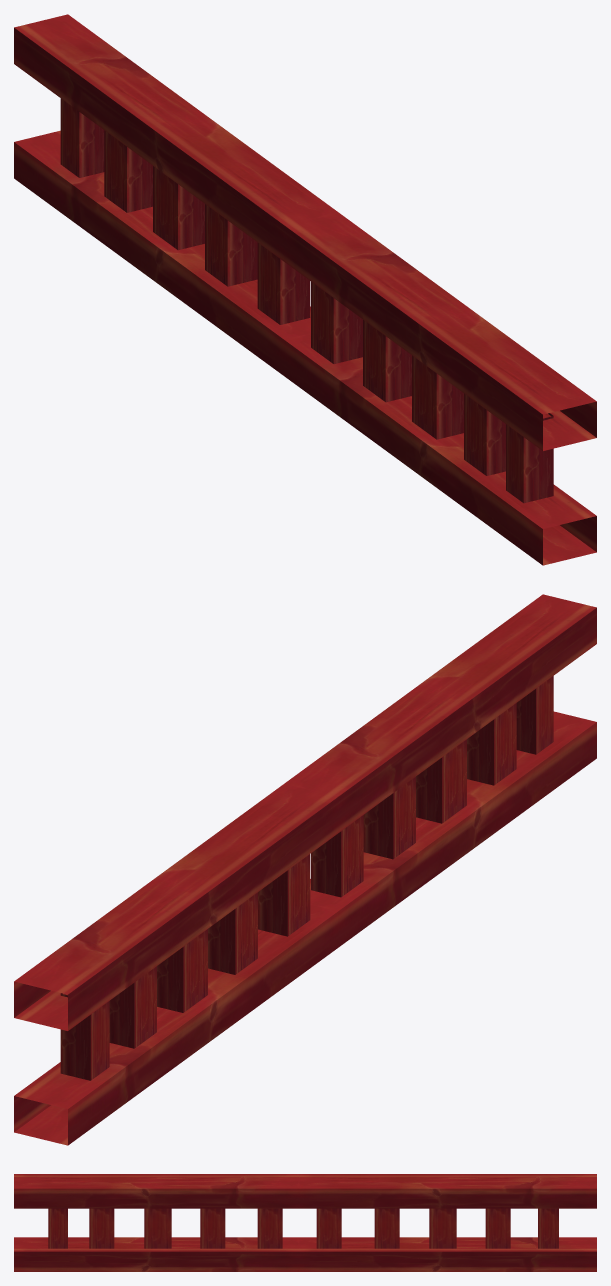
The model's file is Stage_01_02_LanGan.FBX.
The picture shows the model from 3 angles, top to bottom: view 1: azimuth 30°, elevation 25°; view 2: azimuth 150°, elevation 25°; view 3: azimuth 270°, elevation 25°; orthographic projection. The views are drawn at different scales.
Parts seen in each view (by area): view 1: Stage_01_02_LanGan; view 2: Stage_01_02_LanGan; view 3: Stage_01_02_LanGan.
Boxes of the visible parts, x1,y1,x2,y2 form: Stage_01_02_LanGan: [14, 14, 596, 565]; Stage_01_02_LanGan: [14, 594, 596, 1145]; Stage_01_02_LanGan: [14, 1174, 596, 1271].
Size of the model in its own units: 35.94 by 95.94 by 609.
